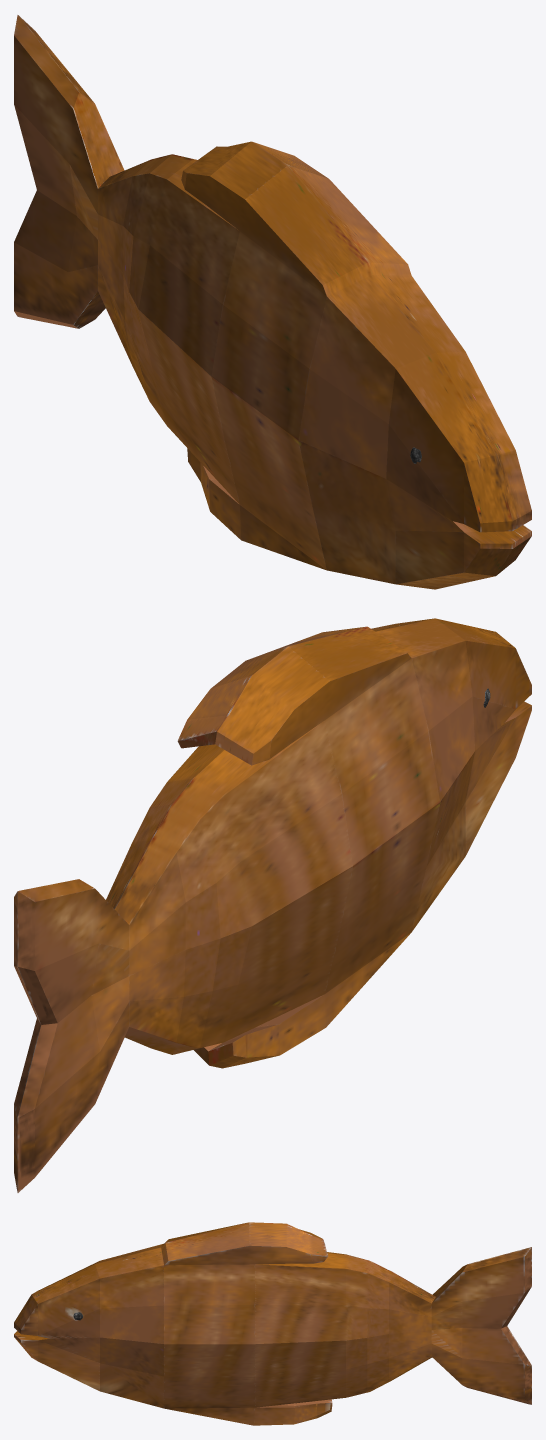
Rendered from pescado con escamas .fbx.
3 views of the same model, one above another, from view 1: azimuth 30°, elevation 25°; view 2: azimuth 150°, elevation 25°; view 3: azimuth 270°, elevation 25° (orthographic). The views are drawn at different scales.
Visible parts, largest first — view 1: cuerpo; view 2: cuerpo; view 3: cuerpo.
Part boxes in pixels (x1,y1,x2,y2): cuerpo: (14,15,531,589); cuerpo: (14,618,531,1192); cuerpo: (14,1222,531,1425).
Size of the model in its own units: 95.13 by 248 by 576.
